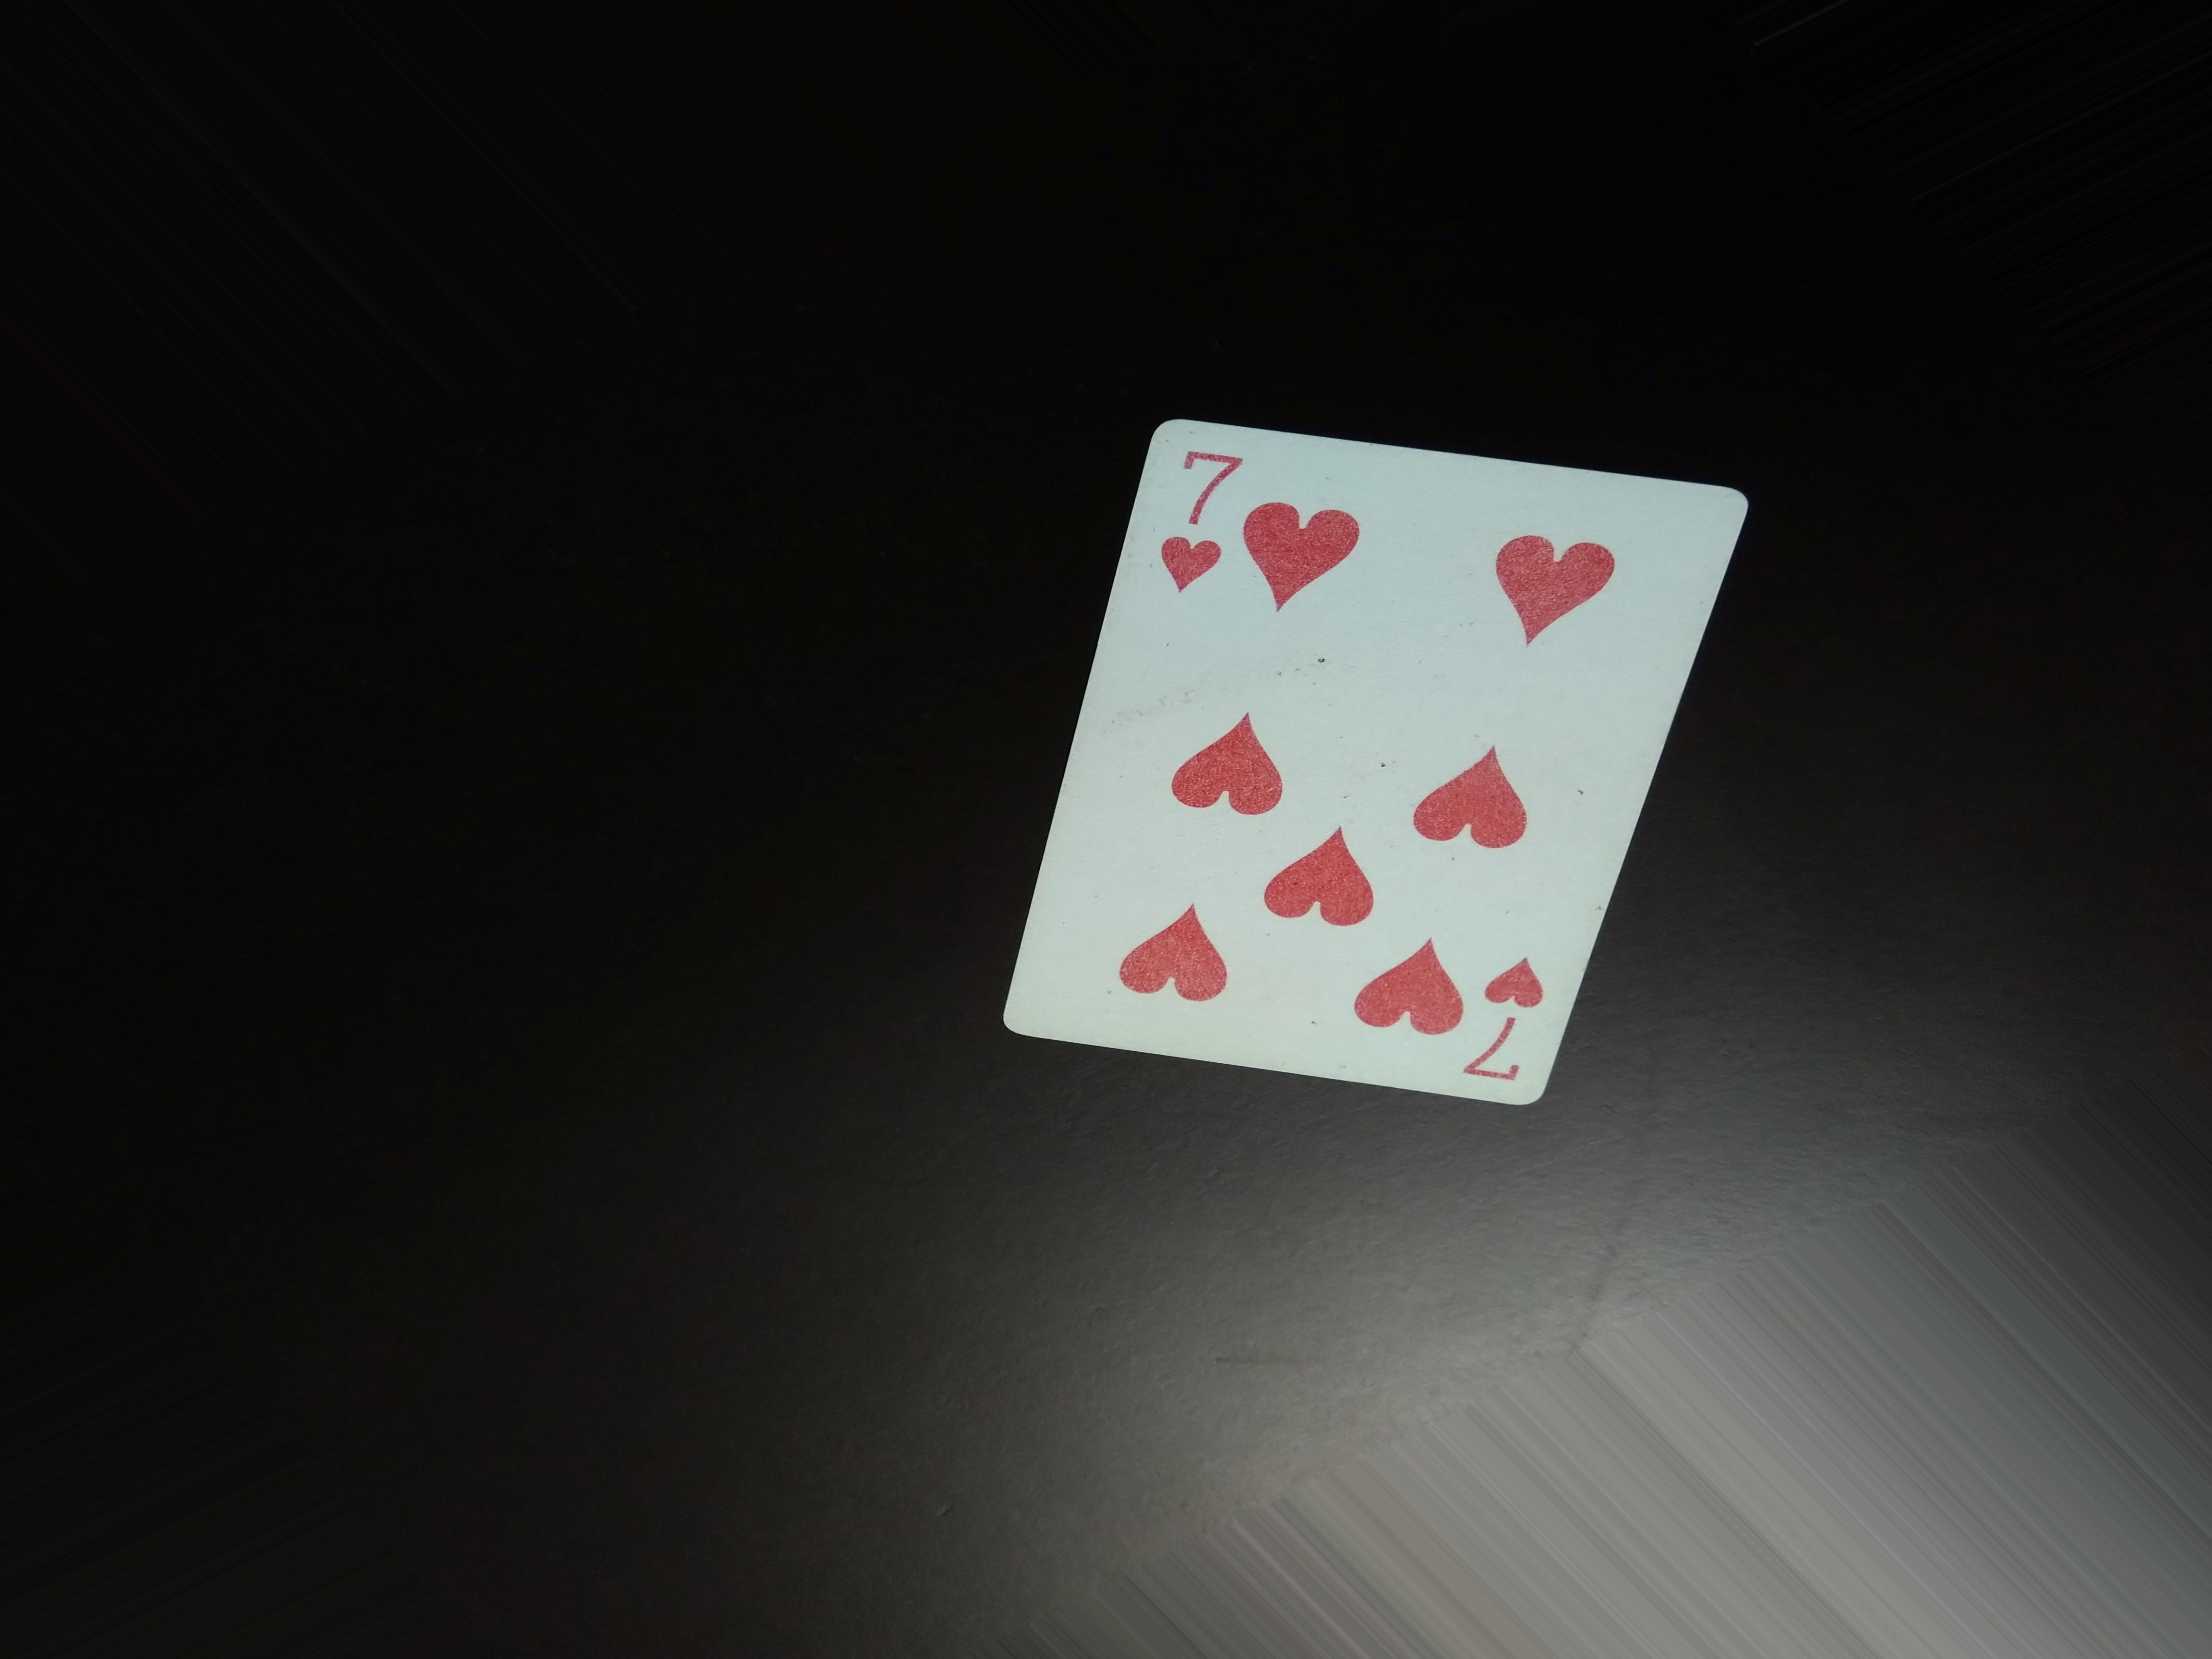7H: (1155, 430, 1252, 619)
